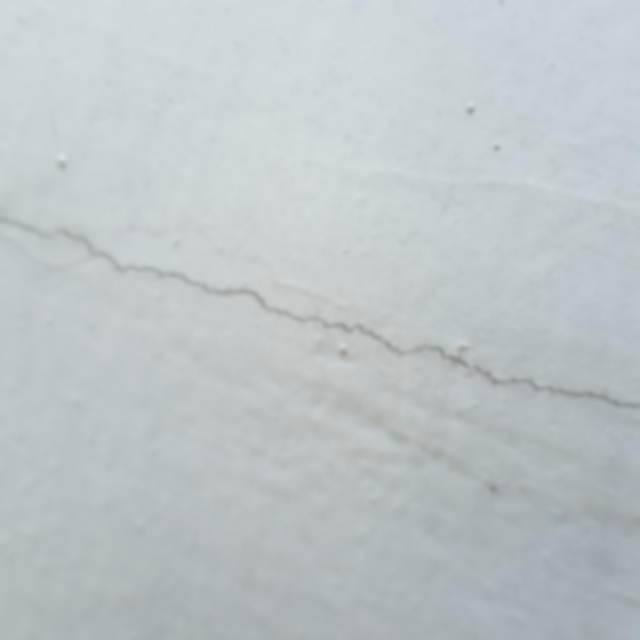SurfaceCrack: (0, 174, 639, 444)
